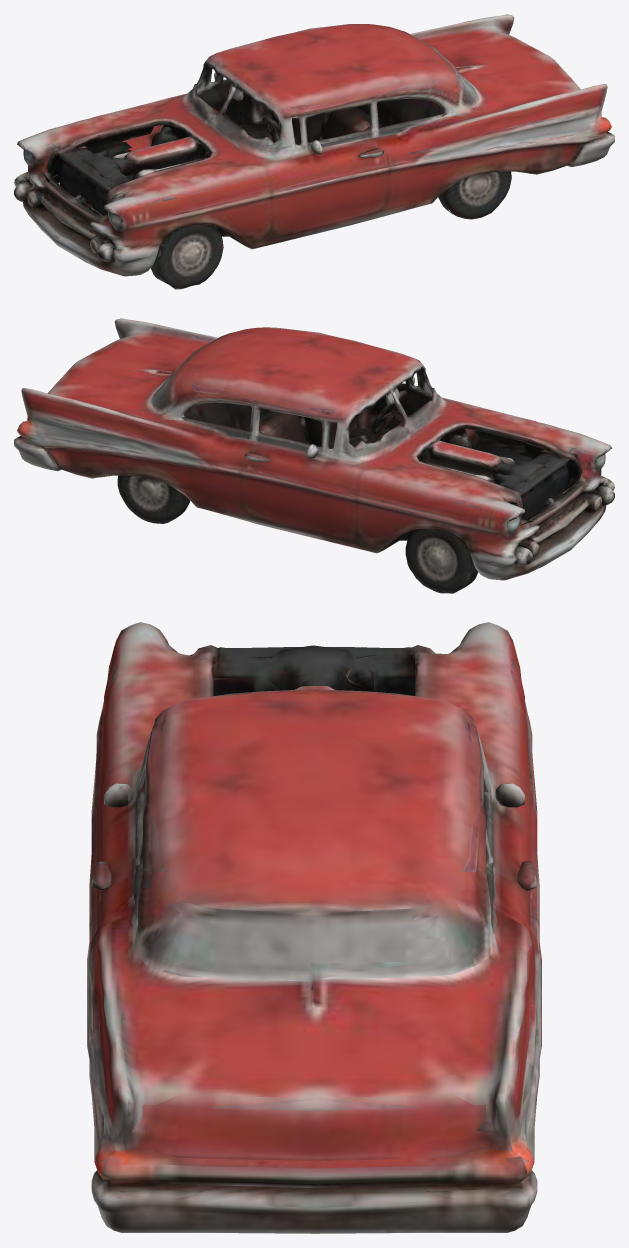
Rendered from 57Chevy.glb.
3 renders of one model, top to bottom at view 1: azimuth 30°, elevation 25°; view 2: azimuth 150°, elevation 25°; view 3: azimuth 270°, elevation 25°, orthographic. The views are drawn at different scales.
Size of the model in its own units: 2 by 0.5749 by 0.768.
Materials: 1 (1 with a texture image).
